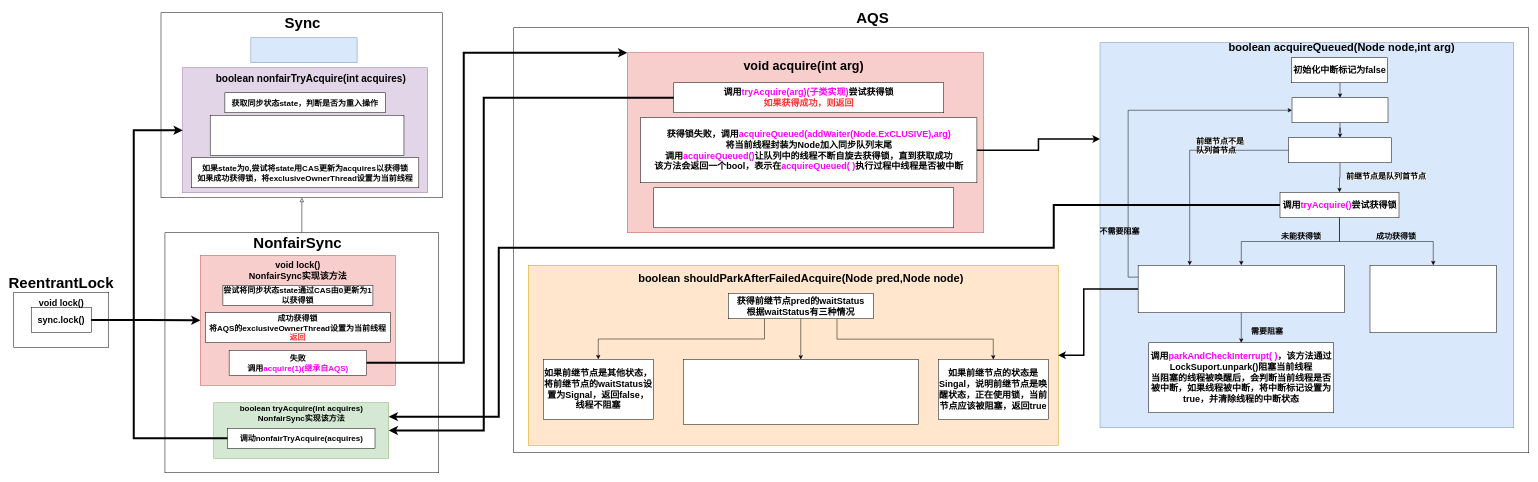
Image size: 1538x482. Some labels were removed from this diagram. Here are the shapes that lost their labels. From the top down, the centre of each, then its label:
At [303,50]: "abstract void lock() 由子类实现".
At [1340,110]: "自旋".
At [307,135]: "如果state不为0,是重入操作 如果锁的持有线程是当前线程,那么state+acquires 返回".
At [1340,150]: "获取当前节点的前继节点".
At [803,207]: "如果acquiredQueued()返回true，那么说明在自旋过程中，发生了中断 调用 selfInterrupt( ) 为线程设置中断标记".
At [1241,289]: "调用 shouldParkAfterFailedAcquire(pre,node) ，根据前继节点的状态判断当前节点是否需要阻塞".
At [1433,299]: "将当前节点设置为队列首节点 并将当前节点更新为虚节点(清空数据)， 返回中断标记，结束".
At [800,391]: "如果前继节点的状态是CANCELLED，说明前继节点是取消状态，从前继节点开始，不断向前找到取消状态的节点，将这些节点都从队列中移除，返回false，线程不阻塞".
